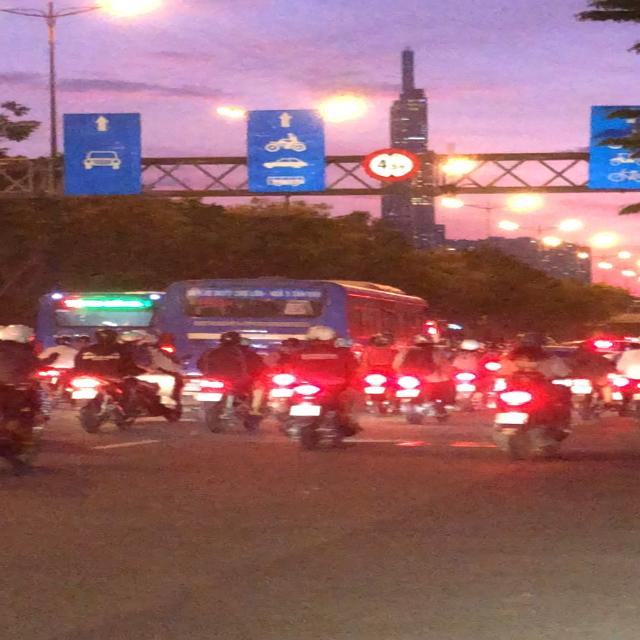Bien bao han che chieu cao: (359, 146, 421, 183)
